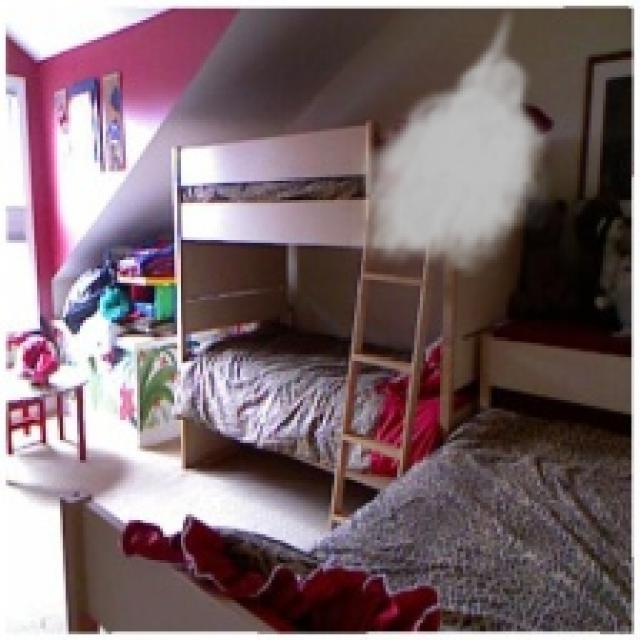smoke: (349, 3, 554, 277)
